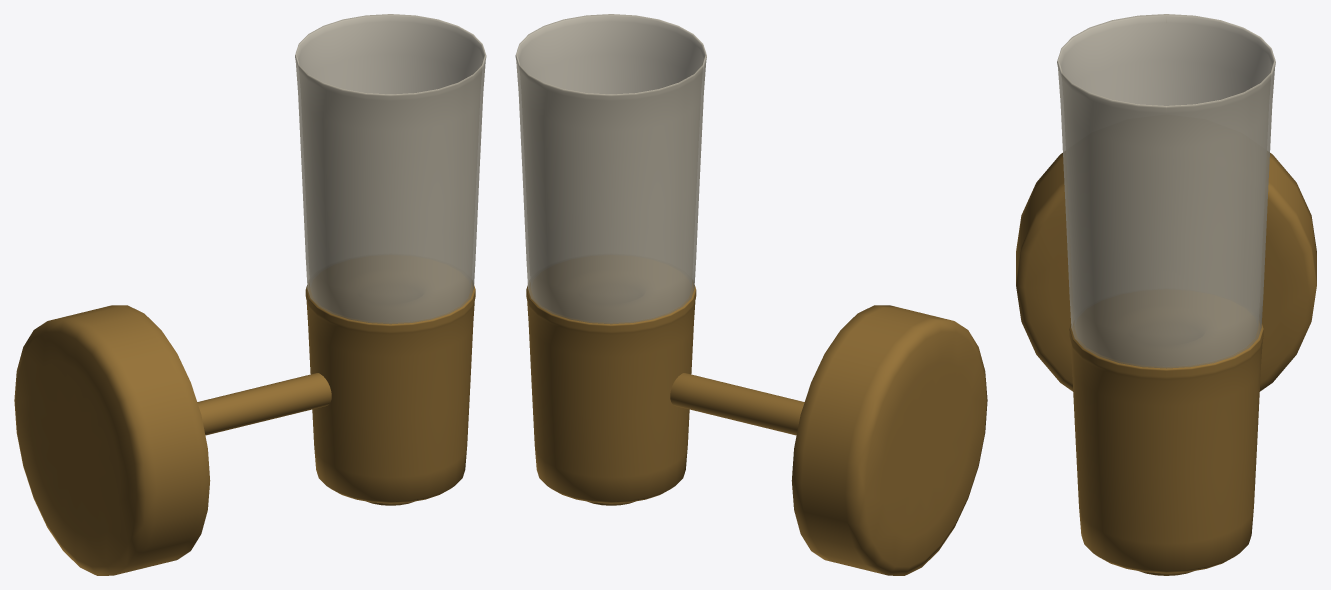
The model's file is lamp_wall.fbx.
3 renders of one model, left to right at view 1: azimuth 30°, elevation 25°; view 2: azimuth 150°, elevation 25°; view 3: azimuth 270°, elevation 25°, orthographic. The views are drawn at different scales.
Parts seen in each view (by area): view 1: Cylinder.008, Cylinder.007; view 2: Cylinder.008, Cylinder.007; view 3: Cylinder.007, Cylinder.008.
Boxes of the visible parts, box(x1,y1,x2,y2) form: Cylinder.008: box(14, 282, 475, 575); Cylinder.007: box(295, 14, 486, 324); Cylinder.008: box(526, 282, 987, 575); Cylinder.007: box(515, 14, 706, 324); Cylinder.007: box(1057, 14, 1275, 368); Cylinder.008: box(1016, 153, 1316, 575).
Bounding box in the file's own units: 568 × 596 × 325.
2 materials, 2 textured.
